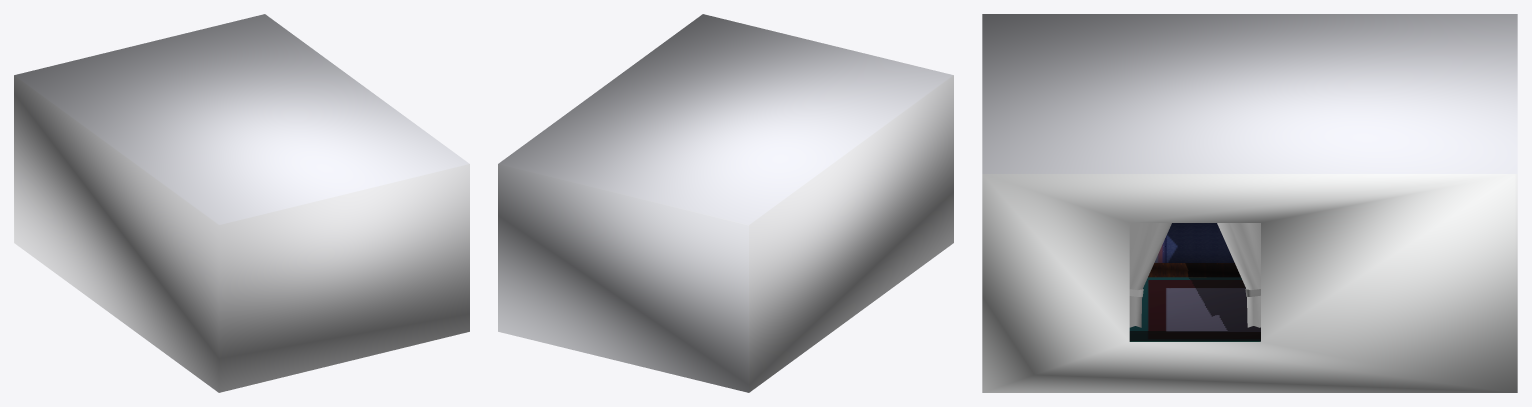
File: room.fbx
3 renders of one model, left to right at view 1: azimuth 30°, elevation 25°; view 2: azimuth 150°, elevation 25°; view 3: azimuth 270°, elevation 25°, orthographic. The views are drawn at different scales.
Parts seen in each view (by area): view 1: Cube; view 2: Cube; view 3: Cube.
Part boxes in pixels (bbox=[...]): Cube: bbox=[14, 14, 469, 392]; Cube: bbox=[498, 14, 953, 392]; Cube: bbox=[982, 14, 1517, 392].
Size of the model in its own units: 14.82 by 9.47 by 20.95.
